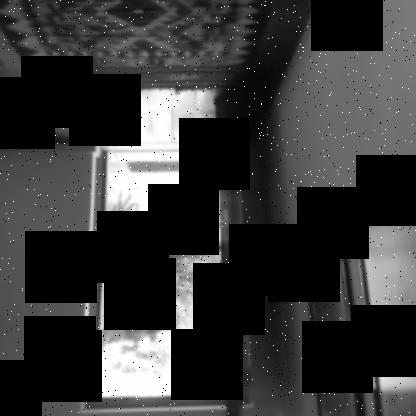Porte: (80, 95, 258, 415)
